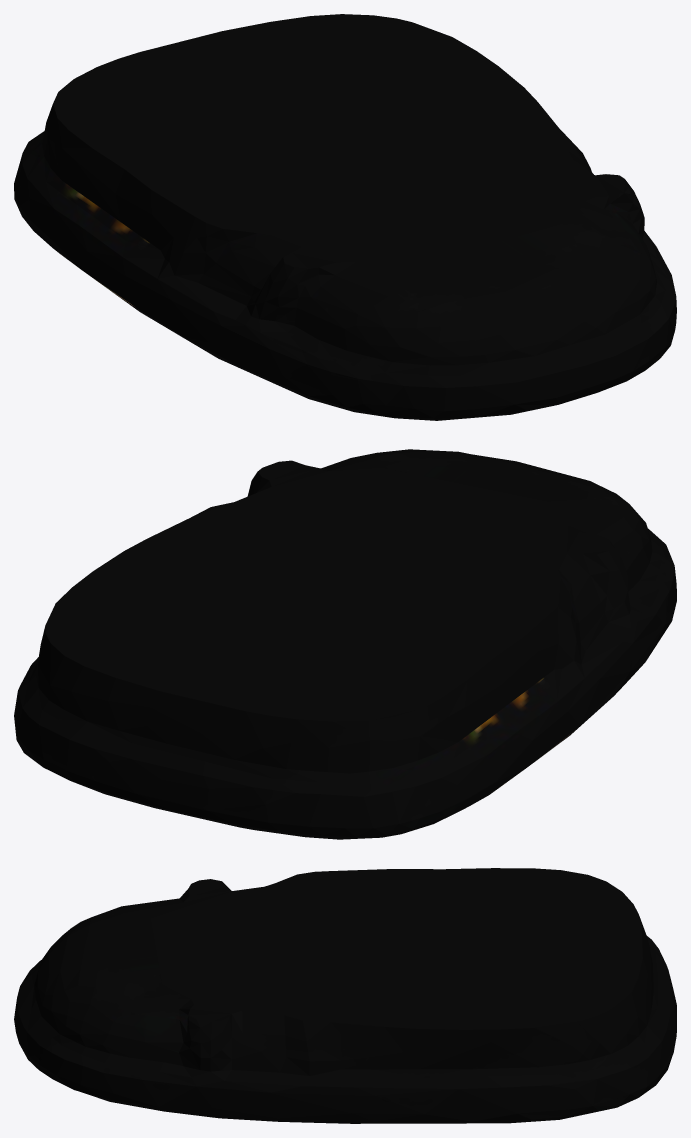
File: LeftFoot.glb
The picture shows the model from 3 angles, top to bottom: view 1: azimuth 30°, elevation 25°; view 2: azimuth 150°, elevation 25°; view 3: azimuth 270°, elevation 25°; orthographic projection. The views are drawn at different scales.
Visible parts, largest first — view 1: LeftFoot; view 2: LeftFoot; view 3: LeftFoot.
Part boxes in pixels (box(x1,y1,x2,y2)): LeftFoot: box(14, 14, 676, 420); LeftFoot: box(14, 449, 676, 839); LeftFoot: box(14, 868, 676, 1123).
Size of the model in its own units: 1.24 by 0.2992 by 1.86.
1 material, 1 textured.
